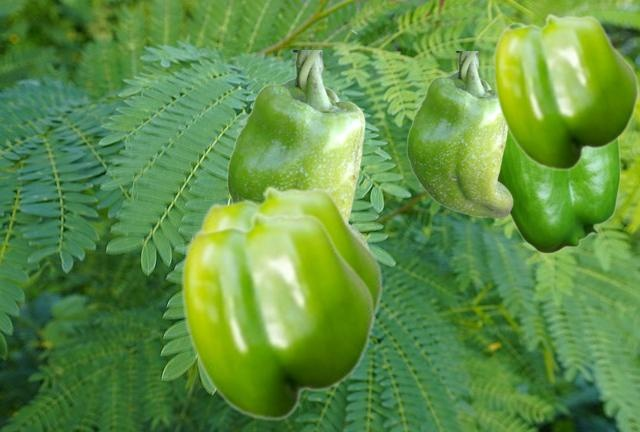bell_pepper: (181, 211, 374, 420), (499, 22, 620, 253), (226, 50, 368, 245), (197, 185, 382, 324), (493, 13, 638, 170), (406, 51, 512, 217)
